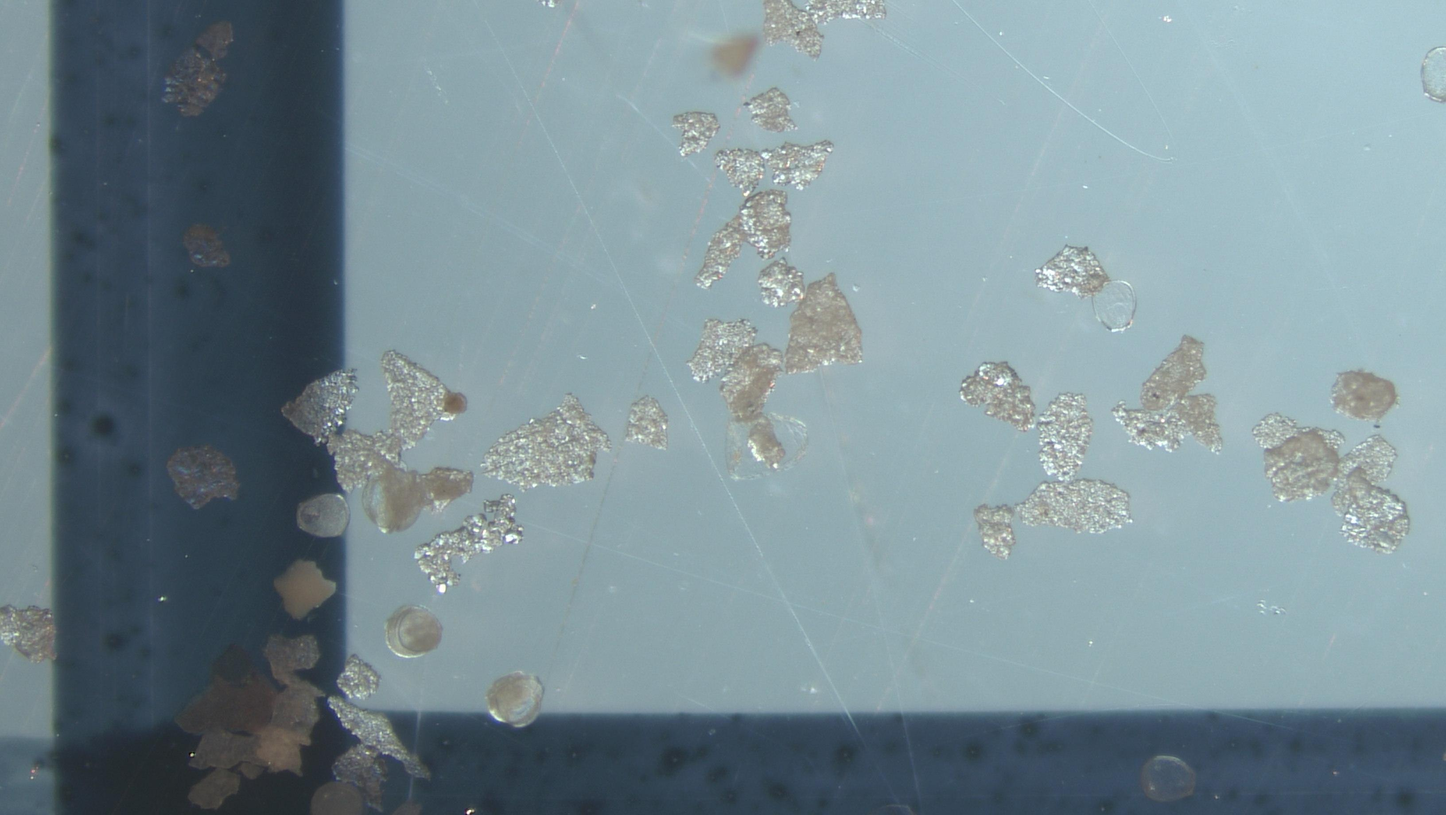dead: (1092, 280, 1137, 331), (1421, 46, 1446, 104)
live: (361, 468, 431, 532), (486, 672, 544, 728), (385, 606, 443, 658), (1141, 755, 1197, 802), (296, 494, 350, 538), (311, 782, 363, 815)
